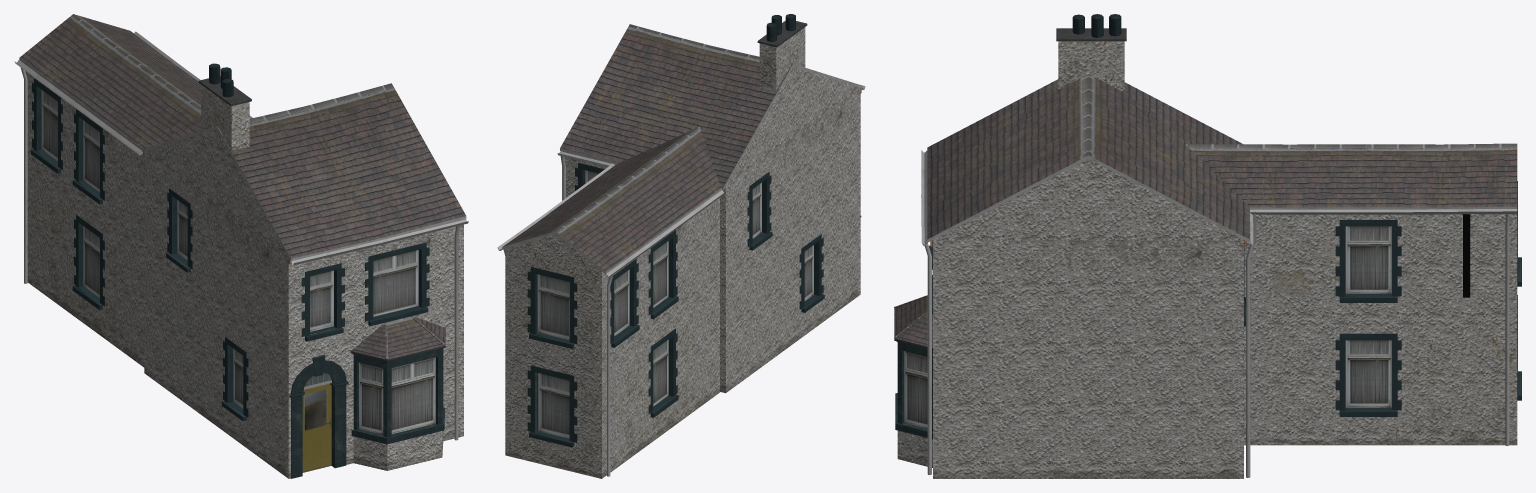
The model's file is ukterracedvictorianc3bm.FBX.
The picture shows the model from 3 angles, left to right: view 1: azimuth 30°, elevation 25°; view 2: azimuth 150°, elevation 25°; view 3: azimuth 270°, elevation 25°; orthographic projection. The views are drawn at different scales.
Visible parts, largest first — view 1: Object003; view 2: Object003; view 3: Object003.
Part boxes in pixels (<box>): Object003: <box>14,14,468,478</box>; Object003: <box>497,14,865,478</box>; Object003: <box>894,14,1521,478</box>.
Bounding box in the file's own units: 572 × 1073 × 1615.
